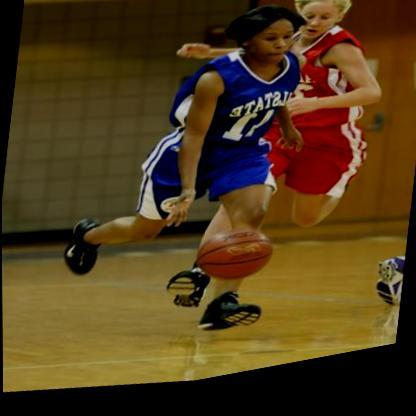basketball: (194, 226, 278, 297)
